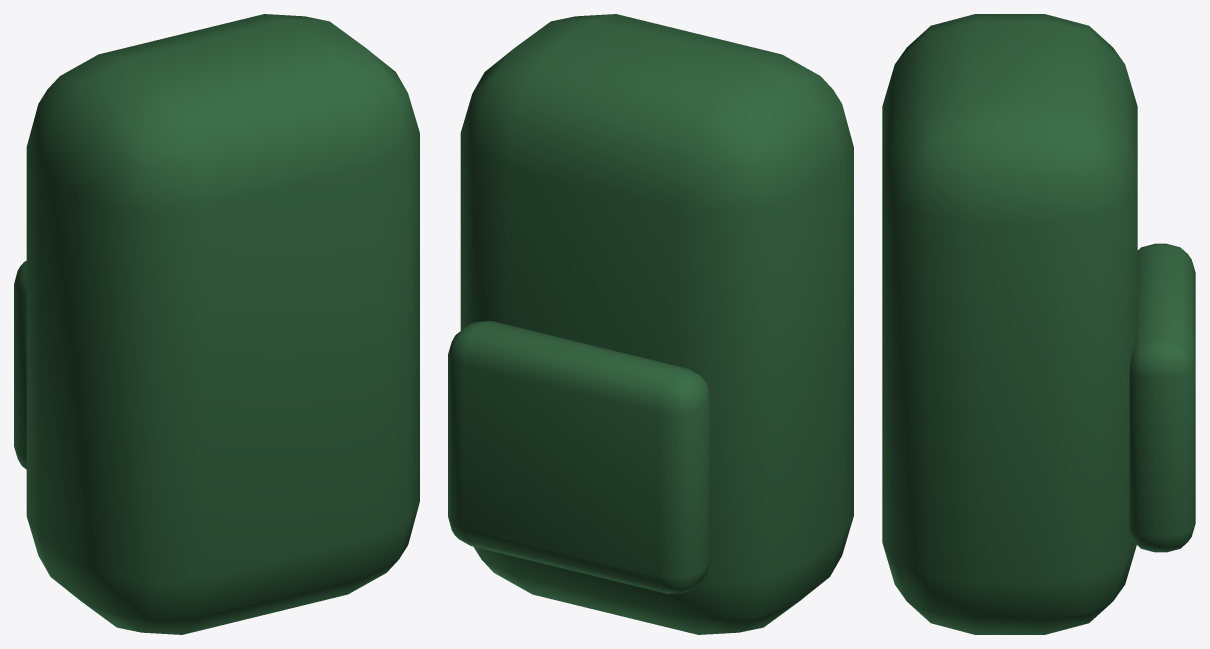
File: airport.bags.rucksack.glb
The picture shows the model from 3 angles, left to right: view 1: azimuth 30°, elevation 25°; view 2: azimuth 150°, elevation 25°; view 3: azimuth 270°, elevation 25°; orthographic projection. The views are drawn at different scales.
Visible parts, largest first — view 1: main__fabric_green; view 2: main__fabric_green; view 3: main__fabric_green.
Boxes of the visible parts, x1=… form: main__fabric_green: x1=14, y1=14, x2=419, y2=634; main__fabric_green: x1=448, y1=14, x2=853, y2=634; main__fabric_green: x1=882, y1=14, x2=1195, y2=634.
Size of the model in its own units: 0.32 by 0.5 by 0.27.
